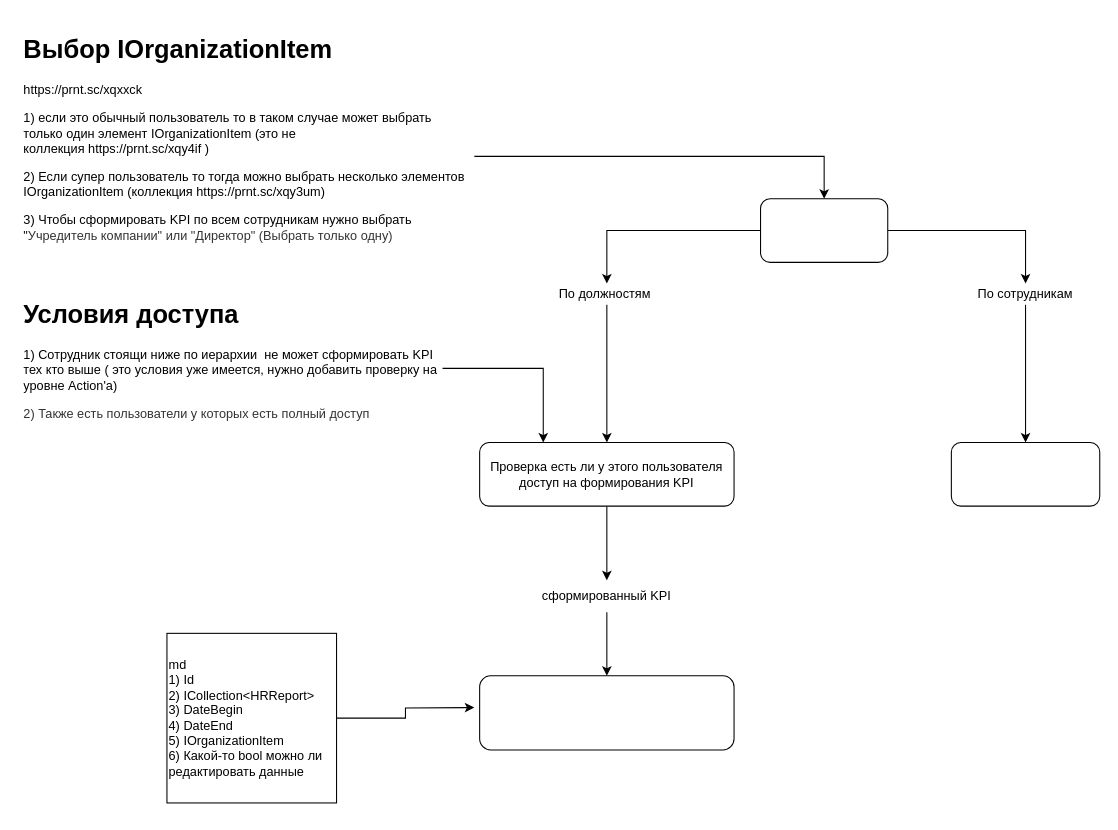
Some shapes in this 1118 by 830 pixel diagram are drawn without their labels. Each missing label, with the centre of its shape:
Пользователь формирует KPI: the point at 823,230
Сформированный KPI нужно сохранить в базу.: the point at 606,712
